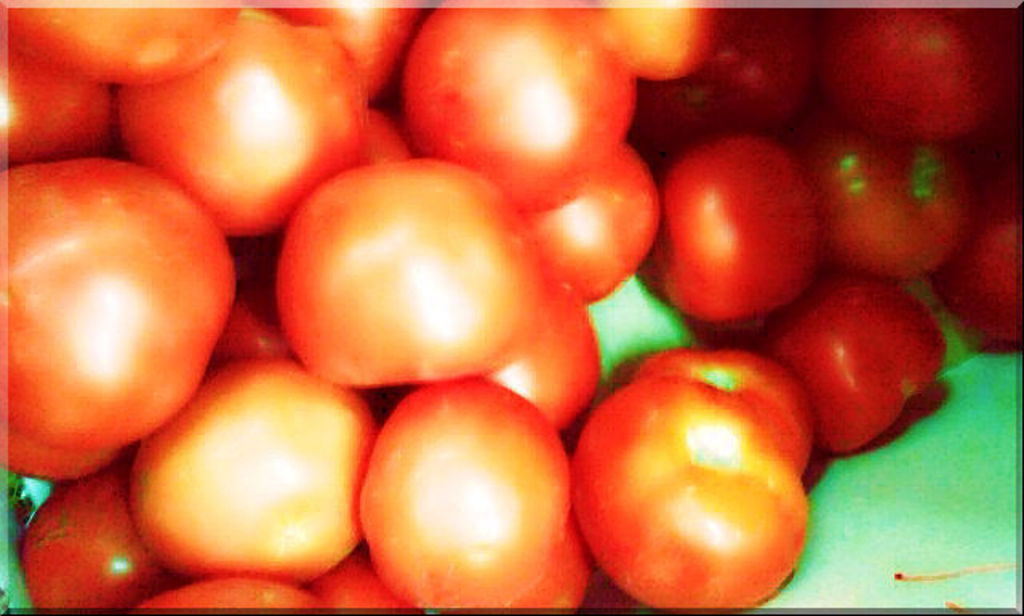Tomato: (7, 155, 235, 449), (275, 153, 540, 377), (132, 352, 376, 585), (120, 7, 369, 231), (571, 376, 809, 603), (404, 7, 640, 214), (364, 388, 577, 609), (651, 127, 814, 321), (775, 279, 948, 459), (793, 118, 982, 276), (630, 3, 814, 148), (820, 6, 1012, 143), (633, 350, 811, 472), (544, 147, 657, 308), (7, 0, 236, 79), (25, 476, 160, 609), (492, 302, 606, 427), (950, 177, 1020, 344)
